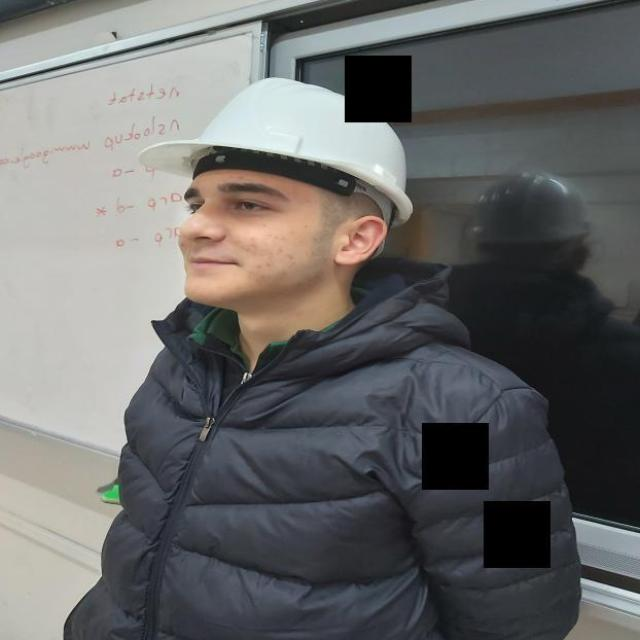helmet: (138, 76, 415, 228), (473, 169, 592, 248)
